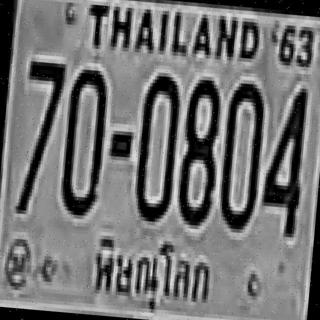N00: (216, 78, 266, 230), (59, 65, 108, 213), (132, 71, 180, 219)
N04: (259, 82, 306, 234)
N07: (16, 57, 66, 213), (18, 57, 66, 187)
N08: (175, 75, 221, 223)
P46: (80, 225, 218, 320)
